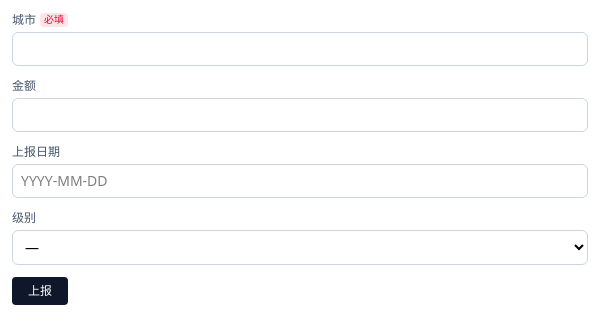
Test: FormRuntime（console 态：corrections 提交） › 服务端拒绝（429 行数闸等）：detail 如实呈现，表单不清空
Step 1. Type "沪" into the field with test id "form-field-input" showing "城市 必填" → (300, 49), box x1=12 y1=32 x2=588 y2=66
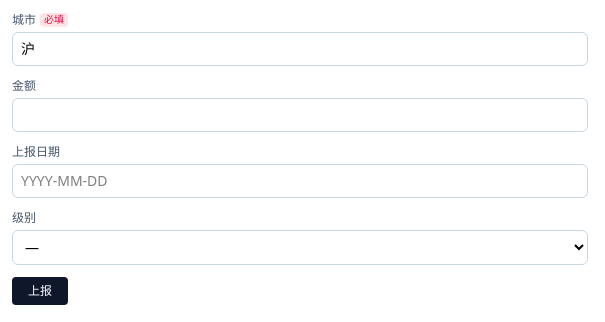
Step 2. Click the button with test id "form-submit" → (40, 291), box x1=12 y1=277 x2=68 y2=305
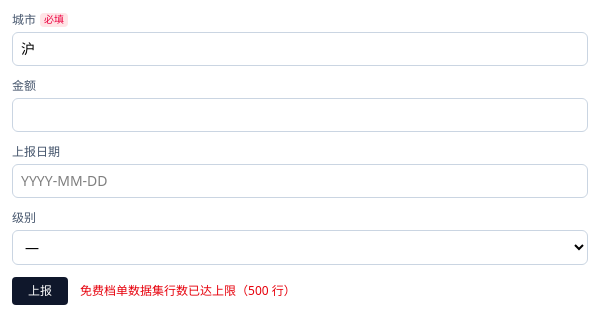
Expected: the text with test id "form-submit-error" shows "行数已达上限", x1=80 y1=282 x2=296 y2=299
